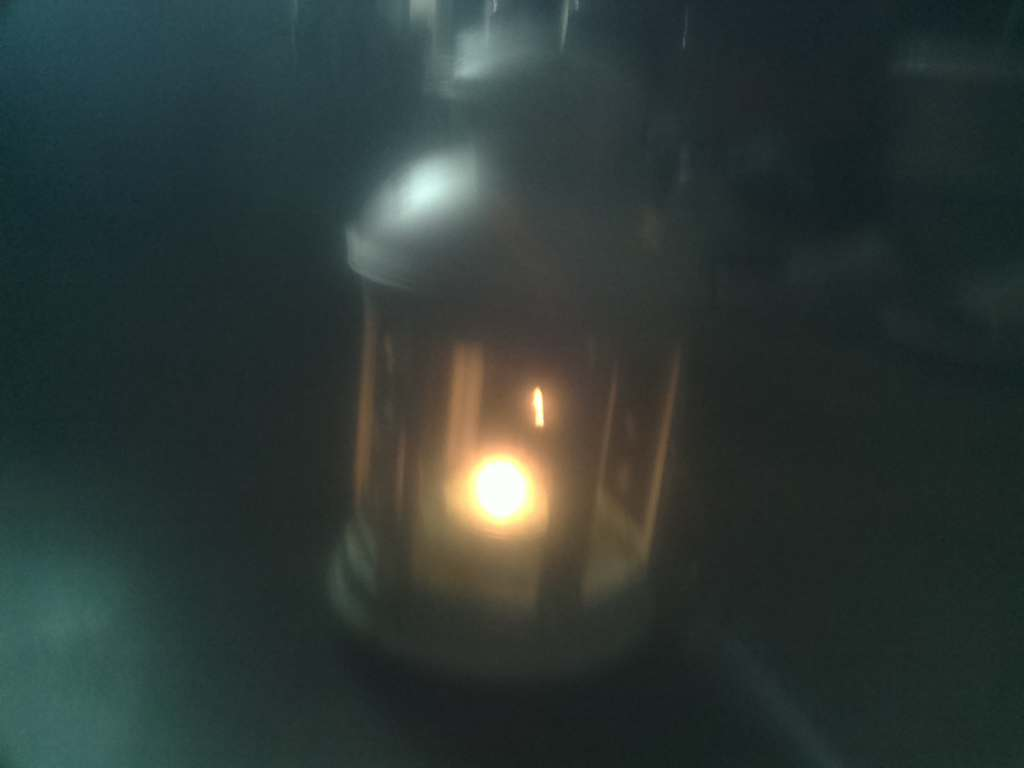fire: (438, 426, 552, 554)
